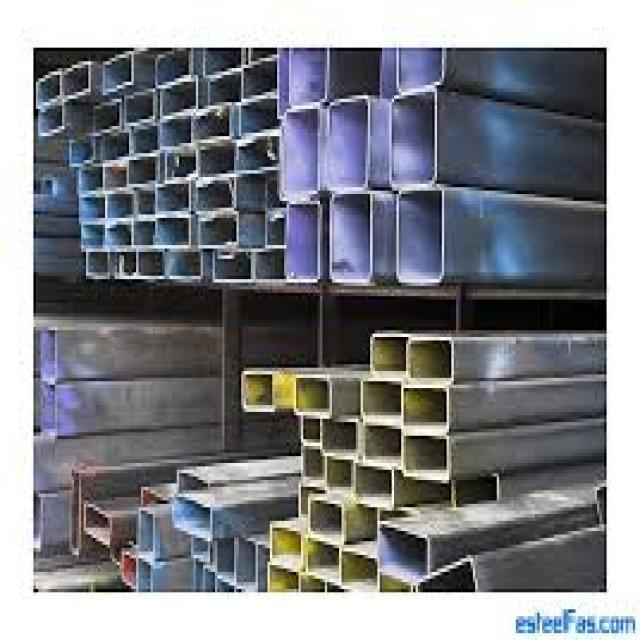pipe: (391, 92, 436, 183), (398, 191, 442, 279), (329, 97, 367, 188), (331, 194, 371, 277), (282, 106, 318, 195), (379, 525, 429, 583), (286, 204, 319, 278), (290, 47, 328, 105), (417, 560, 477, 593), (397, 47, 443, 90), (408, 340, 453, 381), (404, 433, 447, 473), (403, 388, 447, 427), (305, 538, 340, 585), (174, 495, 211, 539), (237, 135, 278, 173), (361, 421, 401, 459), (342, 551, 377, 593), (239, 97, 277, 135), (361, 380, 401, 416), (271, 525, 302, 571), (355, 464, 392, 501), (371, 336, 406, 375), (161, 80, 196, 118), (156, 45, 189, 85), (244, 59, 277, 99), (310, 499, 343, 536), (196, 180, 235, 211), (296, 379, 330, 413), (195, 108, 230, 141), (103, 53, 132, 92), (198, 217, 238, 245), (323, 420, 357, 452), (200, 145, 235, 176), (125, 90, 155, 126), (85, 505, 111, 546), (204, 48, 242, 76), (213, 253, 251, 281), (209, 71, 241, 104), (454, 479, 498, 502), (300, 483, 325, 522), (243, 375, 273, 407), (238, 536, 256, 589), (164, 152, 196, 181), (137, 509, 154, 562), (36, 71, 61, 107), (268, 565, 299, 594), (93, 101, 121, 133), (216, 536, 235, 582), (102, 130, 130, 161), (157, 184, 189, 211), (63, 64, 89, 97), (157, 219, 189, 245), (39, 102, 64, 135), (40, 384, 56, 435), (168, 253, 201, 277), (255, 251, 282, 280), (302, 447, 325, 481), (326, 458, 352, 487), (162, 120, 190, 146), (42, 328, 55, 382), (266, 212, 284, 249), (130, 157, 155, 183), (139, 252, 165, 277), (179, 470, 208, 492), (133, 126, 157, 152), (71, 138, 94, 165), (80, 166, 102, 191), (104, 166, 127, 189), (80, 197, 104, 219), (134, 220, 155, 245), (109, 194, 131, 217), (109, 223, 130, 246), (122, 554, 136, 588), (302, 417, 320, 443), (137, 559, 151, 592), (88, 252, 108, 275), (83, 226, 103, 247), (138, 191, 155, 215), (120, 253, 136, 277), (142, 489, 165, 505), (192, 540, 209, 560), (194, 564, 204, 591), (206, 568, 216, 591)
